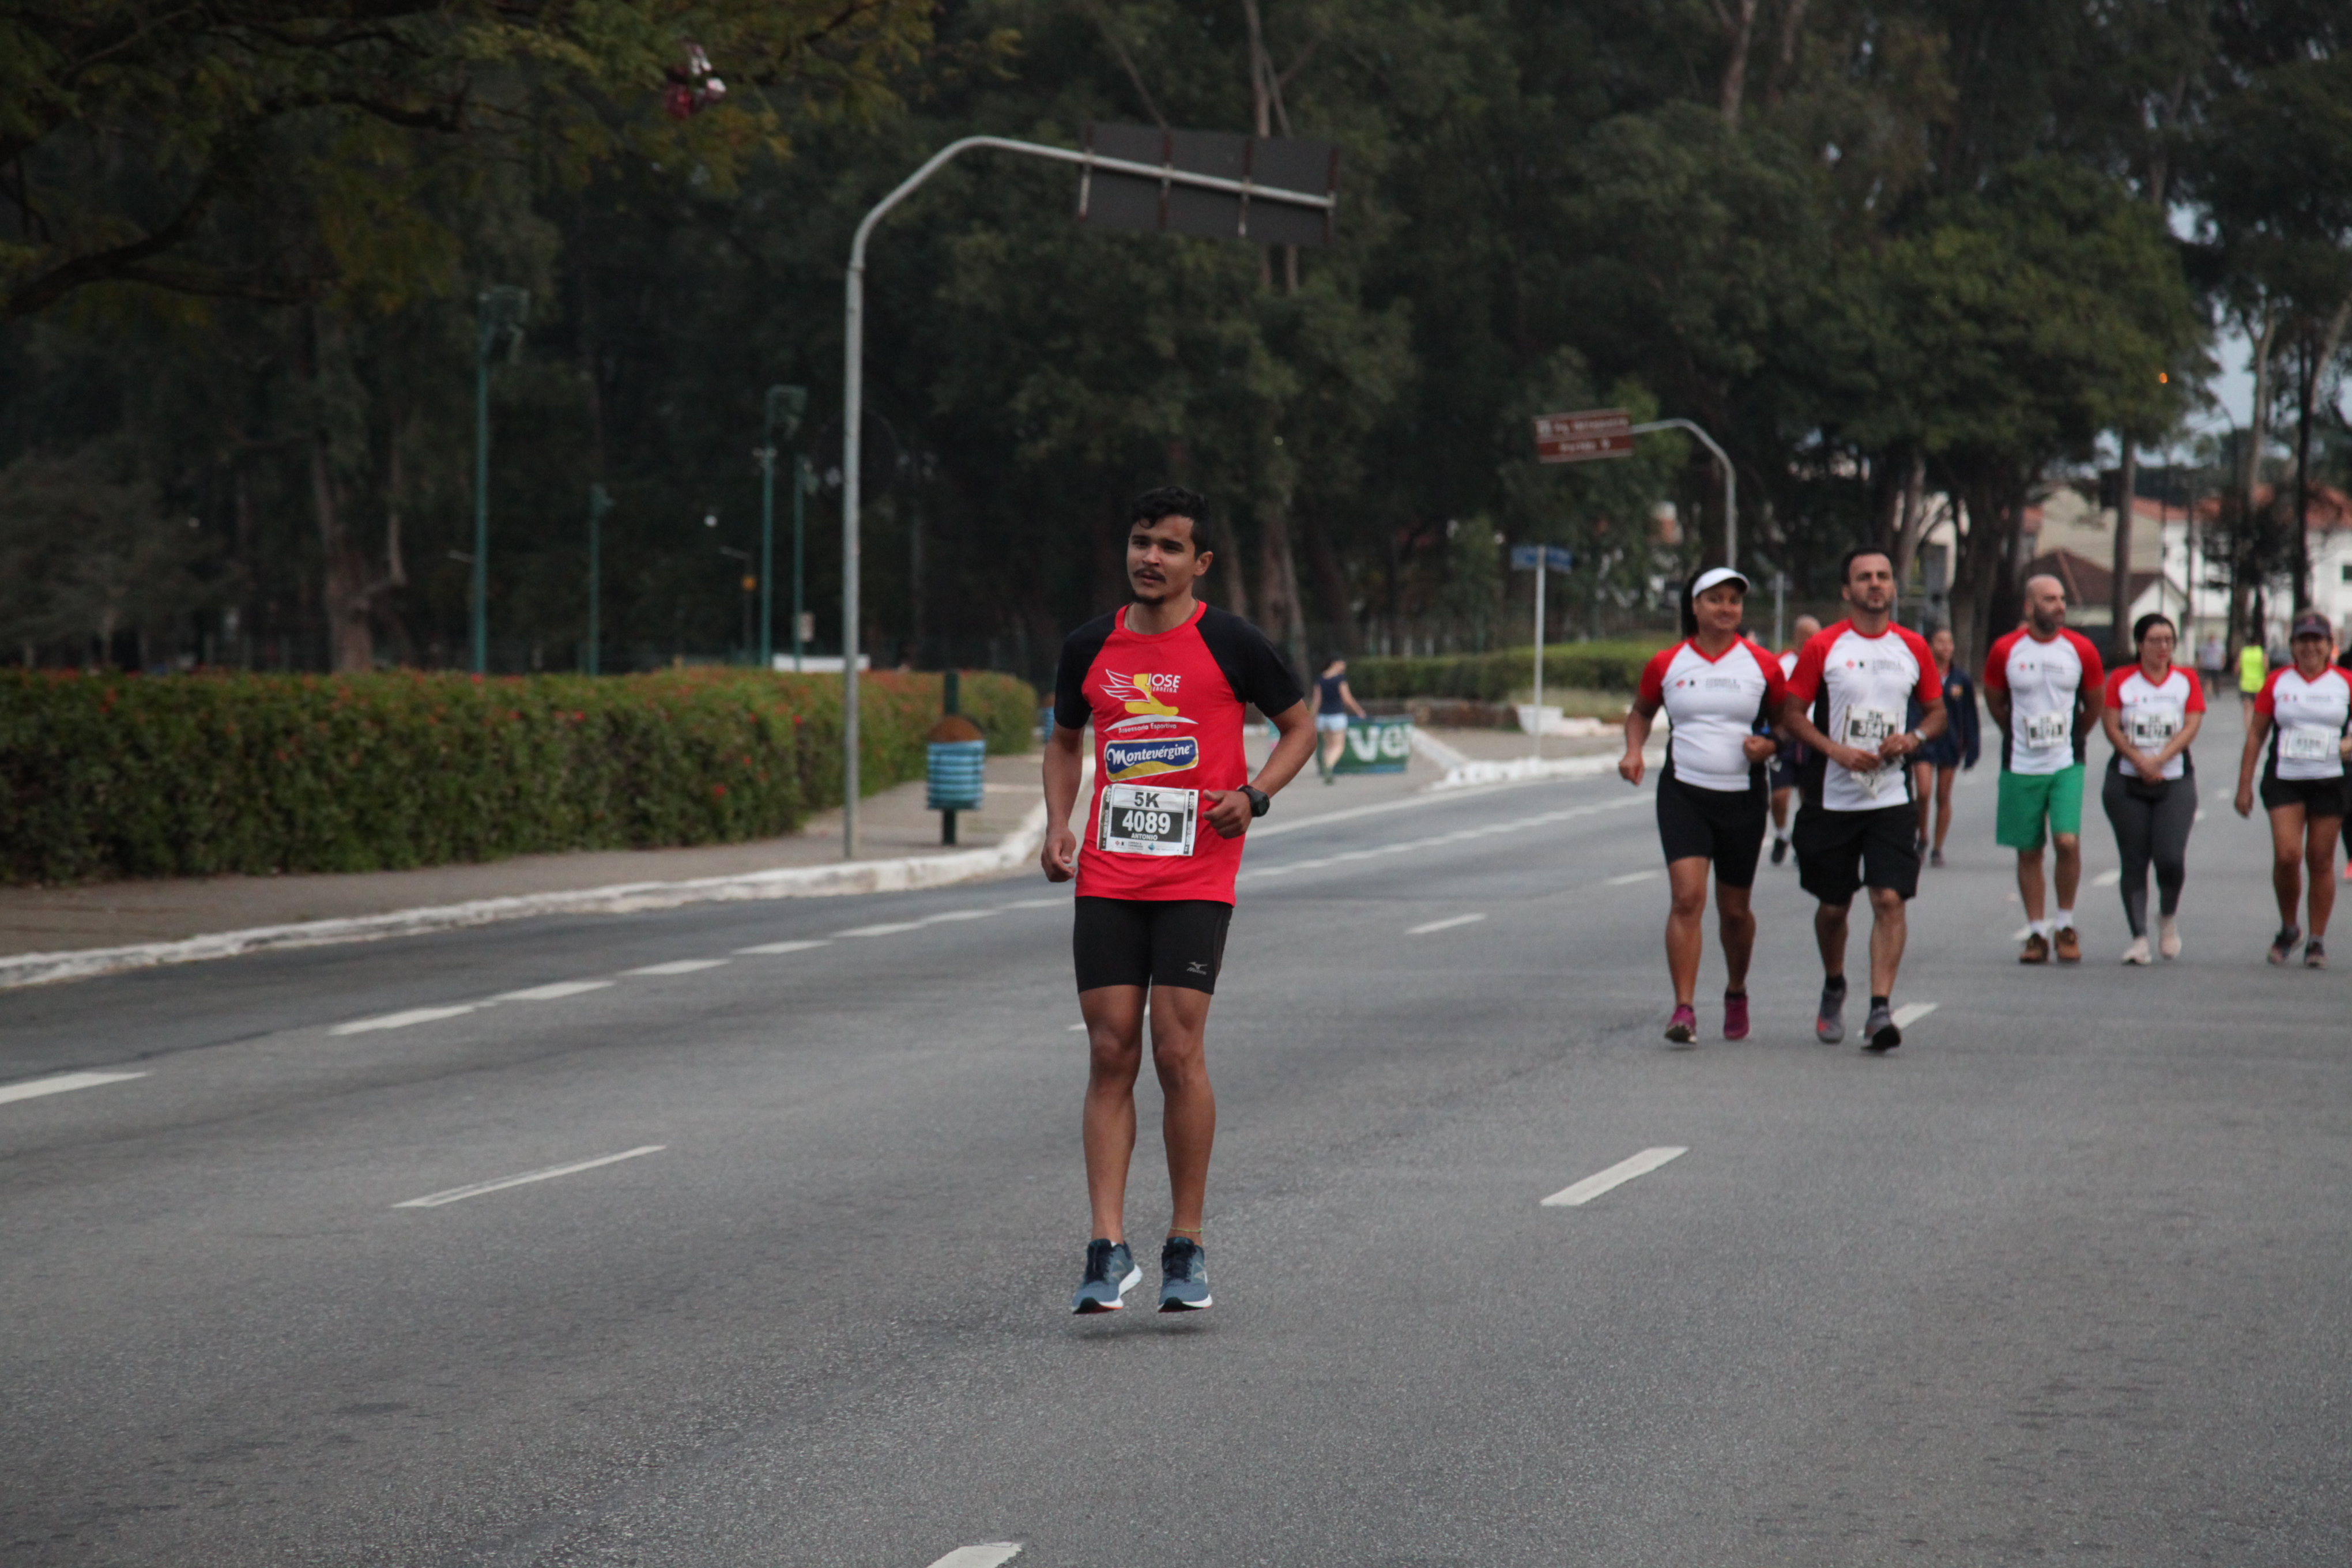bibtag: (1090, 777, 1204, 864), (1839, 702, 1904, 768), (2124, 709, 2198, 759), (2278, 721, 2350, 770), (2016, 709, 2074, 759)
